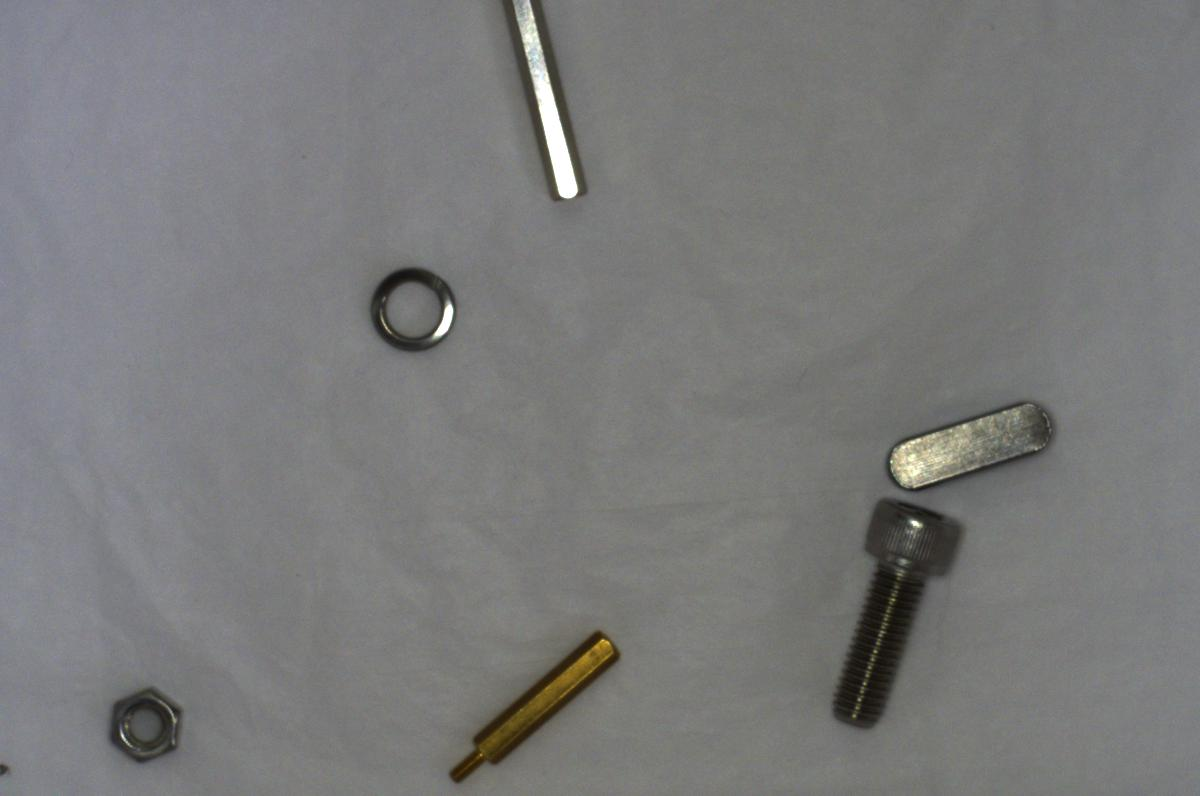Double hexagonal column: (494, 8, 599, 210)
Hexagon nut: (100, 672, 192, 767)
Hexagon pillar: (441, 621, 628, 782)
Hexagon screw: (824, 490, 972, 736)
Keybar: (881, 387, 1064, 500)
Spring washer: (368, 259, 468, 352)
